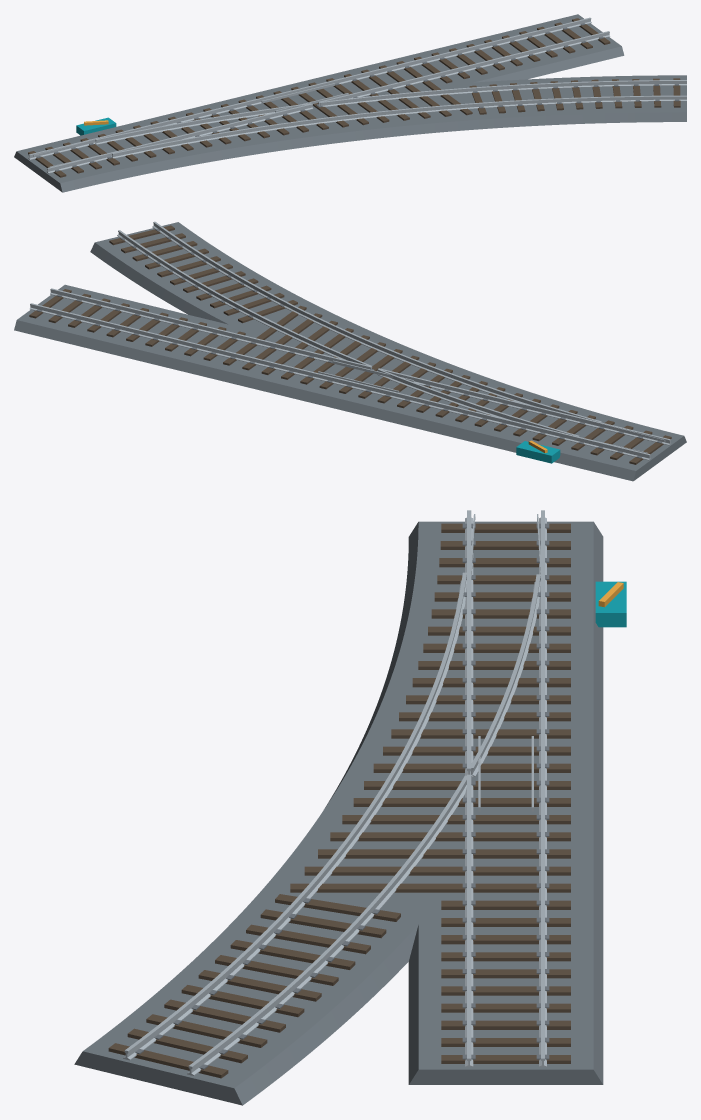
Rendered from turnout_right.glb.
3 renders of one model, top to bottom at view 1: azimuth 30°, elevation 25°; view 2: azimuth 150°, elevation 25°; view 3: azimuth 270°, elevation 25°, orthographic. The views are drawn at different scales.
Visible parts, largest first — view 1: Bed.005, Rail_1_-1.002, Rail_0_1.006, Rail_1_1.002, Rail_0_-1.006, Rail_0_-1.005, Rail_1_1.001, Sleeper_0_21.004, Sleeper_0_20.004, SwitchHousing.001, Sleeper_0_19.004, Sleeper_0_18.004 (+2 smaller); view 2: Bed.005, Rail_0_1.006, Rail_1_-1.002, Rail_0_-1.006, Rail_1_1.002, Rail_0_-1.005, Rail_1_1.001, SwitchHousing.001, Sleeper_0_21.004, Sleeper_0_20.004, Sleeper_0_19.004, Sleeper_0_18.004; view 3: Bed.005, Rail_1_-1.002, Rail_1_1.002, Rail_0_1.006, Sleeper_0_21.004, Rail_0_-1.006, Sleeper_0_20.004, Sleeper_0_19.004, Rail_0_-1.005, Sleeper_0_18.004, Rail_1_1.001, Sleeper_0_17.004 (+39 smaller).
Part boxes in pixels (x1,y1,x2,y2): Bed.005: [14, 14, 686, 192]; Rail_1_-1.002: [112, 95, 686, 158]; Rail_0_1.006: [28, 17, 591, 159]; Rail_1_1.002: [320, 80, 686, 107]; Rail_0_-1.006: [318, 31, 610, 105]; Rail_0_-1.005: [47, 103, 313, 173]; Rail_1_1.001: [95, 103, 310, 144]; Sleeper_0_21.004: [396, 61, 472, 115]; Sleeper_0_20.004: [379, 65, 451, 116]; SwitchHousing.001: [76, 117, 116, 135]; Sleeper_0_19.004: [361, 69, 430, 118]; Sleeper_0_18.004: [344, 74, 409, 120]; Bed.005: [14, 222, 686, 481]; Rail_0_1.006: [29, 303, 650, 460]; Rail_1_-1.002: [152, 221, 601, 422]; Rail_0_-1.006: [50, 288, 372, 369]; Rail_1_1.002: [117, 230, 371, 366]; Rail_0_-1.005: [377, 368, 671, 445]; Rail_1_1.001: [377, 369, 579, 436]; SwitchHousing.001: [516, 441, 560, 463]; Sleeper_0_21.004: [223, 305, 306, 365]; Sleeper_0_20.004: [242, 313, 322, 370]; Sleeper_0_19.004: [261, 320, 337, 374]; Sleeper_0_18.004: [281, 328, 353, 379]; Bed.005: [74, 521, 603, 1105]; Rail_1_-1.002: [123, 572, 466, 1060]; Rail_1_1.002: [187, 775, 468, 1075]; Rail_0_1.006: [539, 510, 546, 1067]; Sleeper_0_21.004: [290, 883, 570, 892]; Rail_0_-1.006: [465, 774, 473, 1067]; Sleeper_0_20.004: [304, 866, 570, 875]; Sleeper_0_19.004: [318, 849, 570, 858]; Rail_0_-1.005: [465, 510, 473, 777]; Sleeper_0_18.004: [330, 832, 570, 841]; Rail_1_1.001: [469, 574, 540, 776]; Sleeper_0_17.004: [342, 815, 570, 824].
Size of the model in its own units: 20.75 by 0.46 by 8.52.
